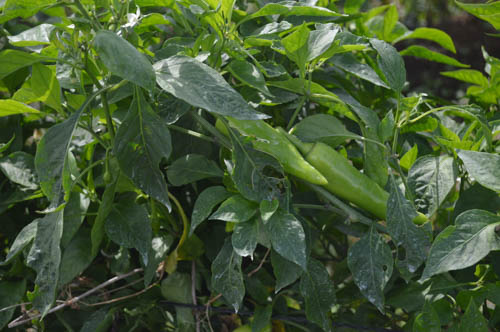ChiliPepper: (309, 144, 424, 222), (220, 116, 325, 184)
